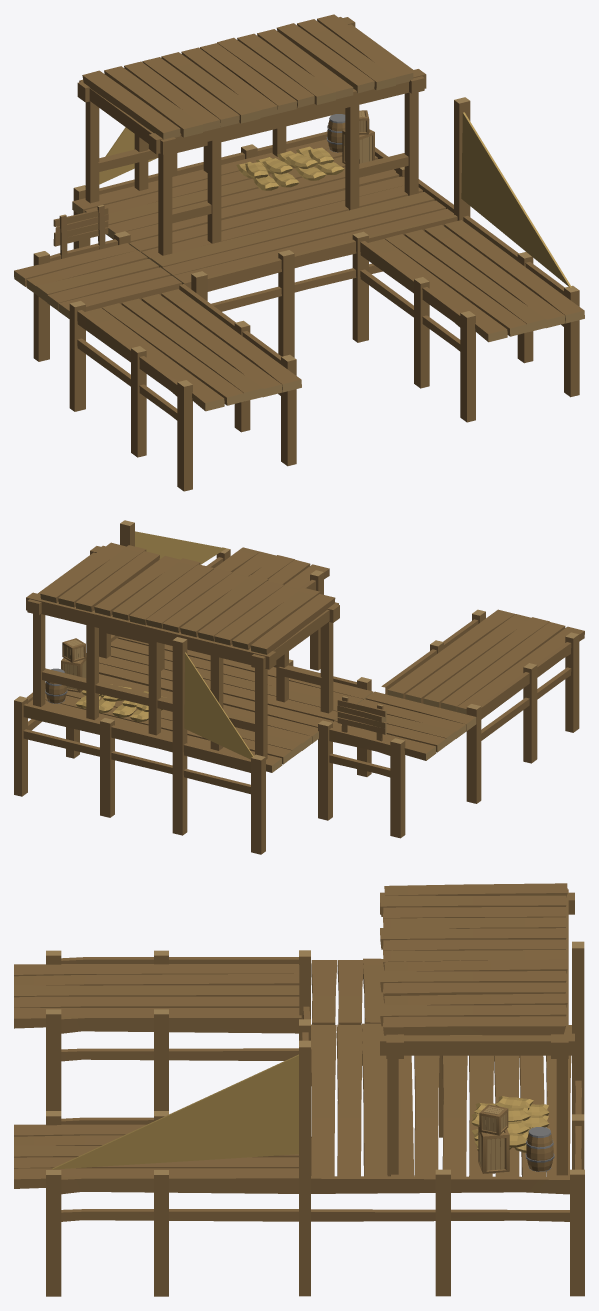
File: Shipping Port-rDX8W8uqip.glb
The picture shows the model from 3 angles, top to bottom: view 1: azimuth 30°, elevation 25°; view 2: azimuth 150°, elevation 25°; view 3: azimuth 270°, elevation 25°; orthographic projection. The views are drawn at different scales.
Visible parts, largest first — view 1: Port_FirstAge_Level3; view 2: Port_FirstAge_Level3; view 3: Port_FirstAge_Level3.
Boxes of the visible parts, x1,y1,x2,y2 form: Port_FirstAge_Level3: [14, 14, 584, 491]; Port_FirstAge_Level3: [14, 520, 584, 854]; Port_FirstAge_Level3: [14, 883, 584, 1296].
Bounding box in the file's own units: 1.84 × 0.9907 × 1.98.
